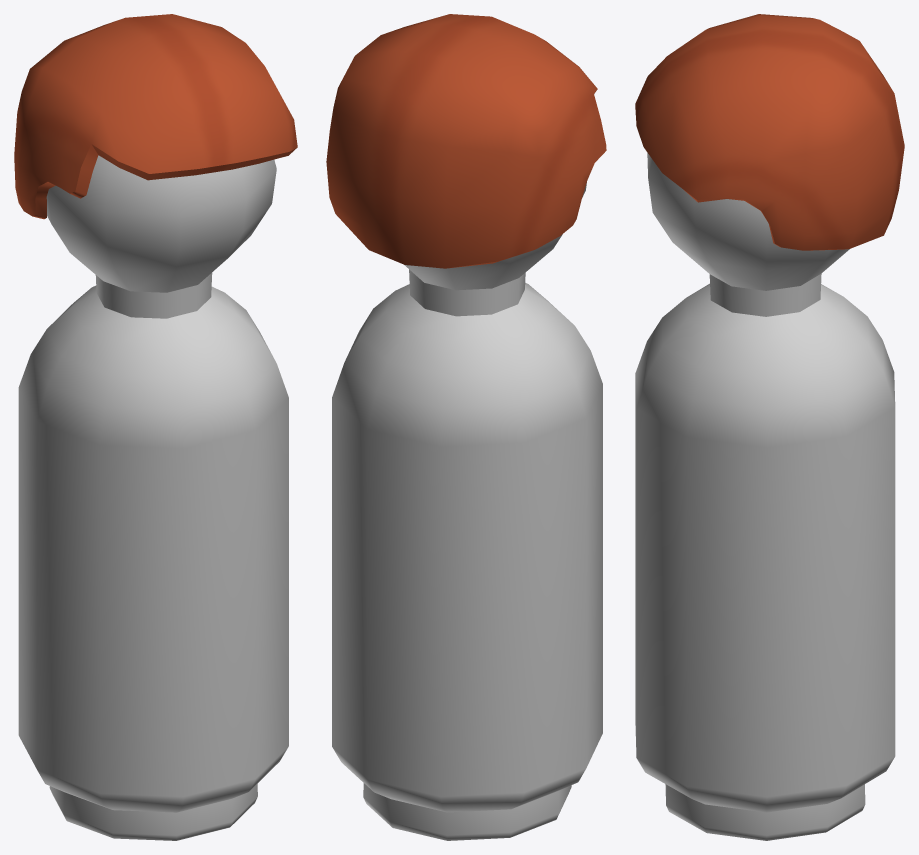
Rendered from Peg_Shirt_Short_OrangeHair.fbx.
3 views of the same model, side by side, from view 1: azimuth 30°, elevation 25°; view 2: azimuth 150°, elevation 25°; view 3: azimuth 270°, elevation 25° (orthographic).
Parts seen in each view (by area): view 1: Peg_Shirt_Short_OrangeHair; view 2: Peg_Shirt_Short_OrangeHair; view 3: Peg_Shirt_Short_OrangeHair.
Boxes of the visible parts, <box> form: Peg_Shirt_Short_OrangeHair: <box>14,14,297,840</box>; Peg_Shirt_Short_OrangeHair: <box>326,14,606,840</box>; Peg_Shirt_Short_OrangeHair: <box>635,14,904,840</box>.
Bounding box in the file's own units: 1.92 × 5.9 × 1.87.
